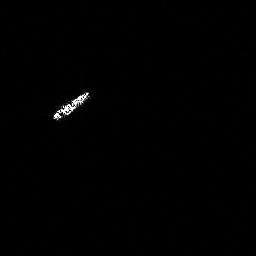ship: (52, 90, 90, 121)
